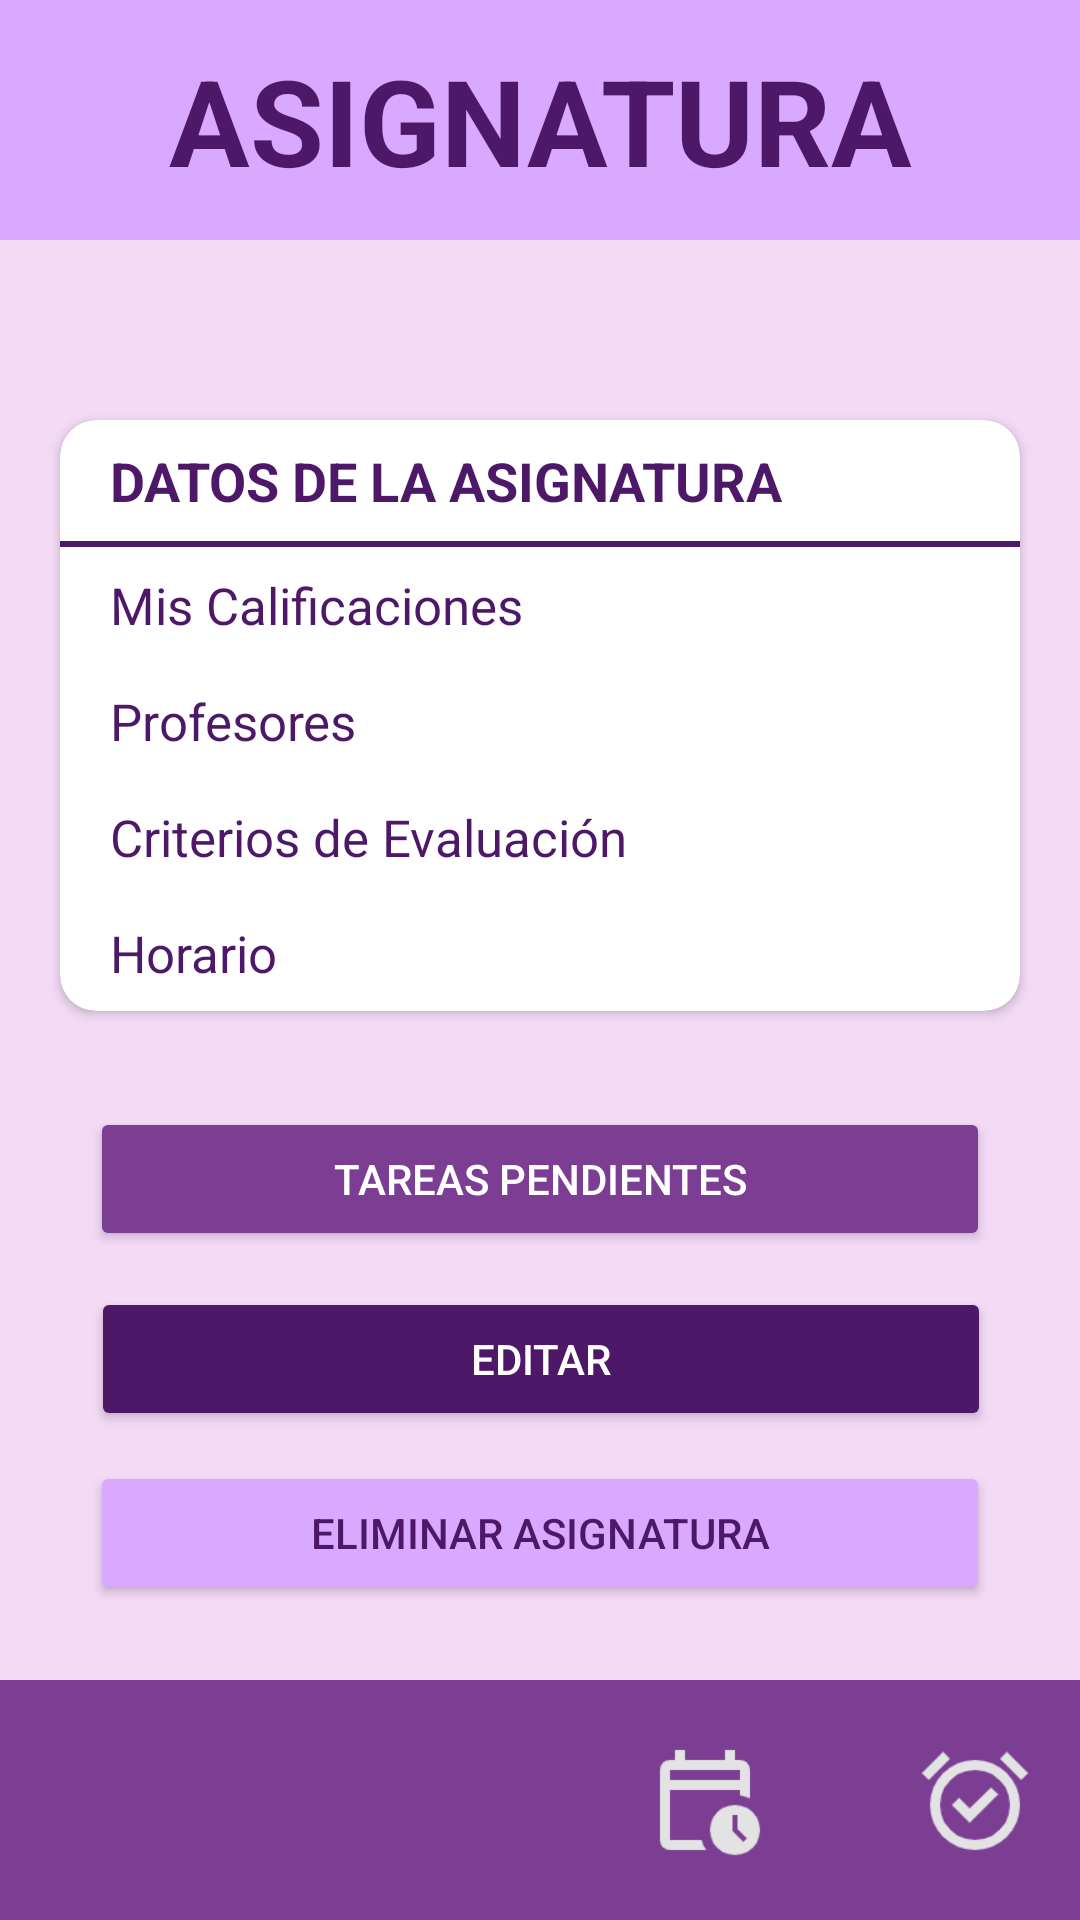

Point at icon controls on the screen. Image size 1080 x 1920, points as (x,y).
Horario: (710,1802)
Reloj: (975,1800)
